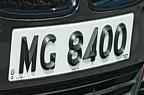0: (113, 19, 128, 59), (99, 21, 114, 59)
4: (83, 23, 100, 66)
8: (66, 27, 85, 68)
G: (38, 31, 58, 74)
M: (17, 31, 38, 79)
